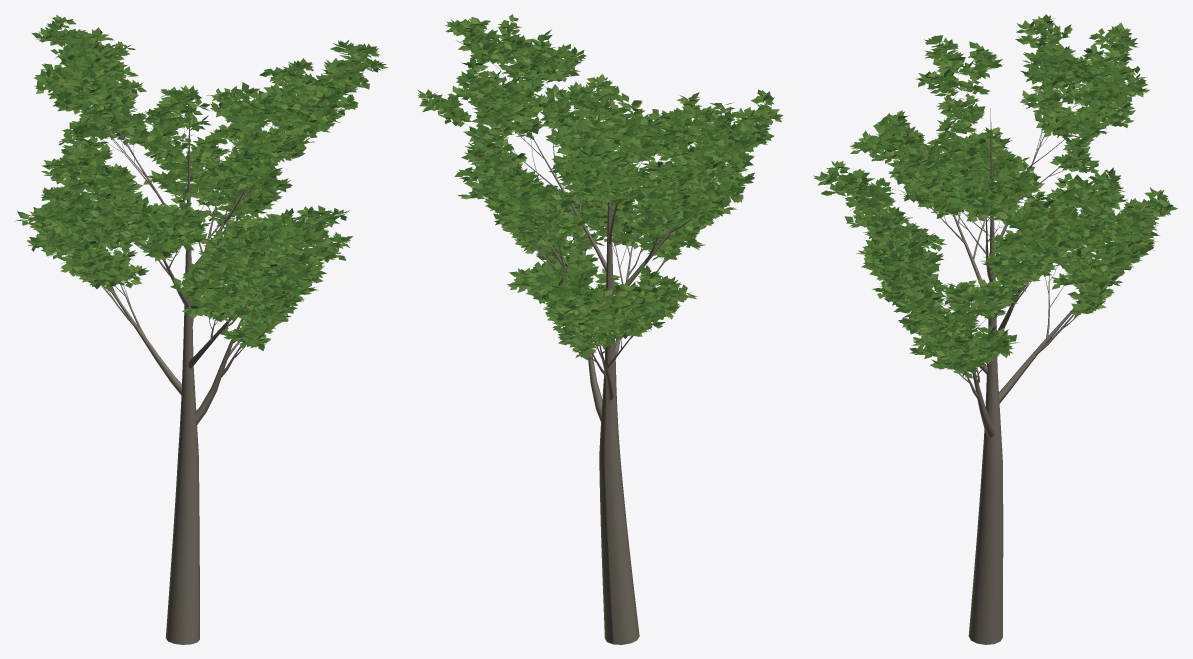
The model's file is tree_07.glb.
The picture shows the model from 3 angles, left to right: view 1: azimuth 30°, elevation 25°; view 2: azimuth 150°, elevation 25°; view 3: azimuth 270°, elevation 25°; orthographic projection.
Parts seen in each view (by area): view 1: Tree_07_leaf_clusters, Tree_07_trunk_branches; view 2: Tree_07_leaf_clusters, Tree_07_trunk_branches; view 3: Tree_07_leaf_clusters, Tree_07_trunk_branches.
Boxes of the visible parts, box(x1,y1,x2,y2) form: Tree_07_leaf_clusters: box(14, 14, 388, 350); Tree_07_trunk_branches: box(47, 22, 352, 644); Tree_07_leaf_clusters: box(417, 14, 783, 360); Tree_07_trunk_branches: box(436, 24, 766, 644); Tree_07_leaf_clusters: box(813, 14, 1177, 378); Tree_07_trunk_branches: box(838, 30, 1158, 644).
Size of the model in its own units: 5.11 by 8.82 by 5.
